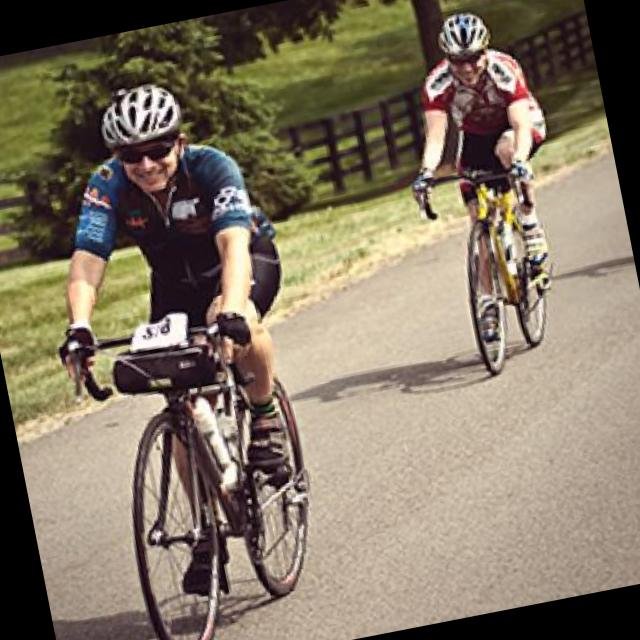With Helmet: (94, 71, 210, 197), (436, 7, 502, 92)
